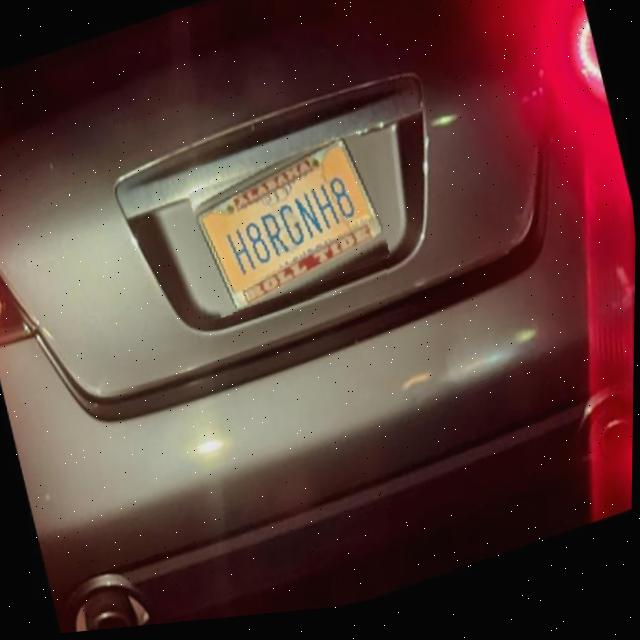LicensePlate: (195, 144, 384, 317)
